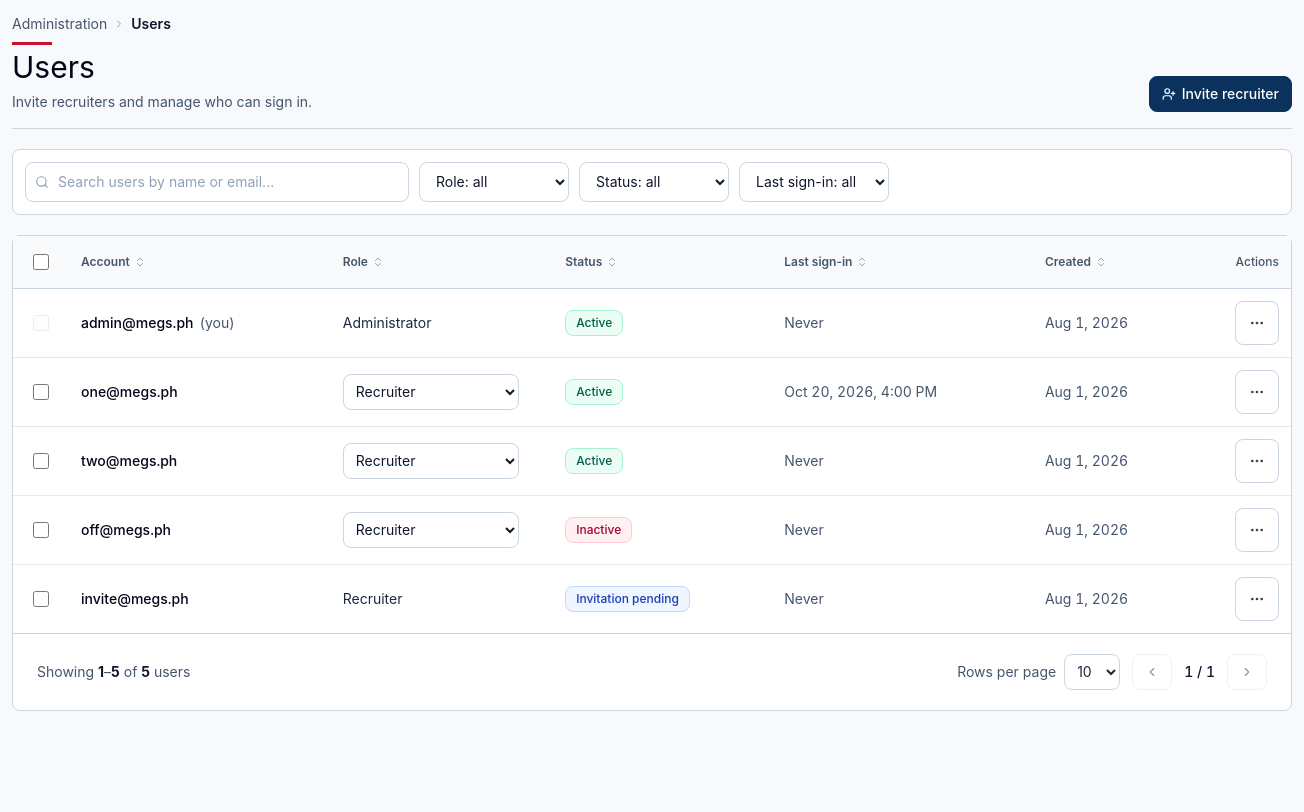
Test case: UsersPage matrix › offers only the bulk actions that fit every selected row
Click the checkbox named "Select one@megs.ph". click: point(41, 392)
box: [33,384,49,400]
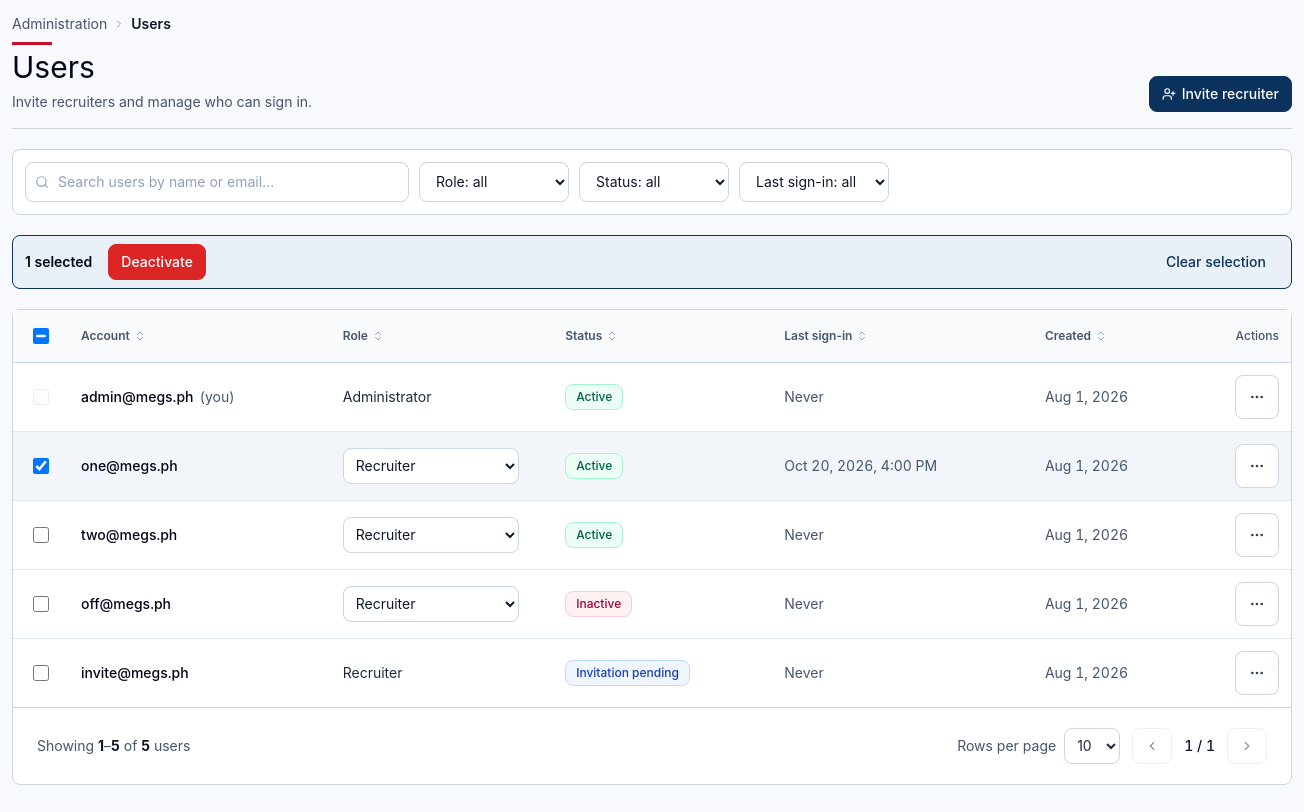
Expected: the button "Deactivate" is shown, [108,244,206,280]
Click the checkbox named "Select off@megs.ph". click: point(41, 604)
box: [33,596,49,612]
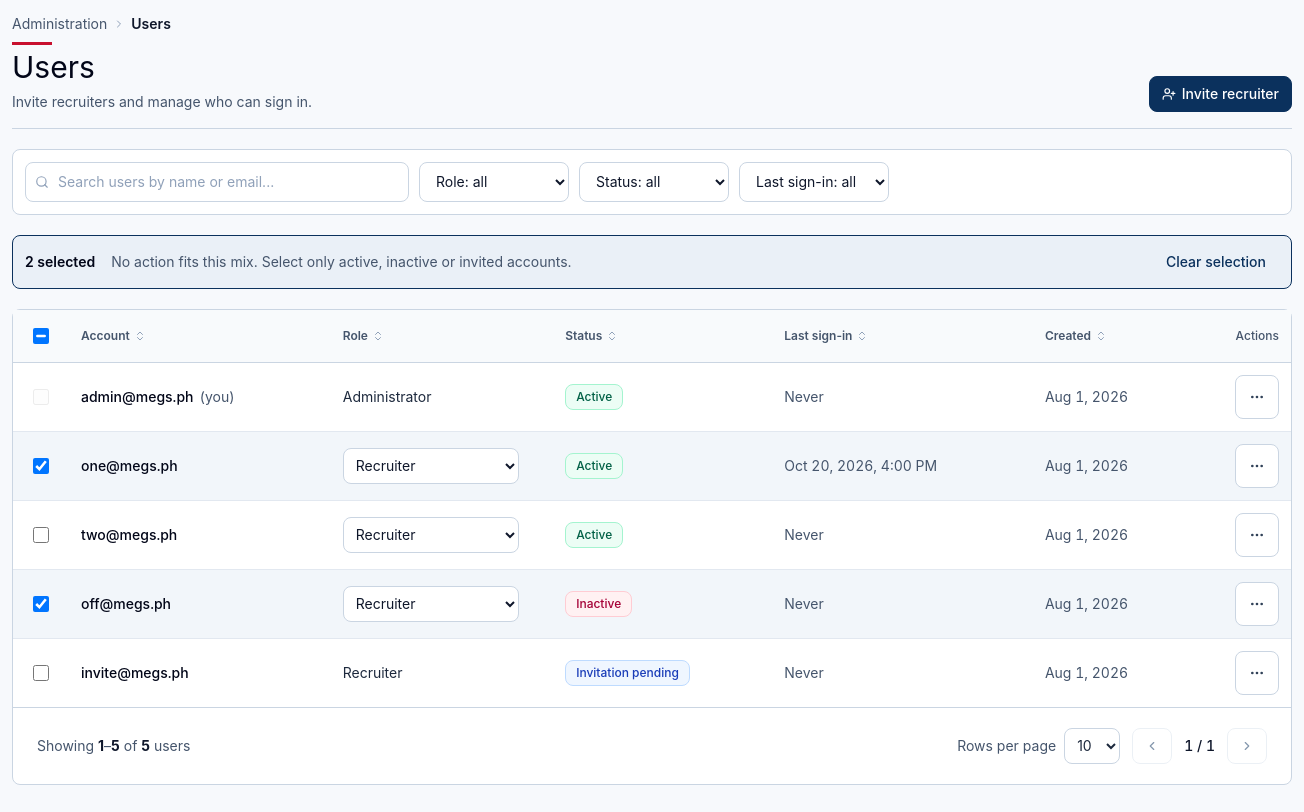
Expected: the button "Deactivate" is gone
Expected: the text "No action fits this mix" is shown, [111,252,572,270]
